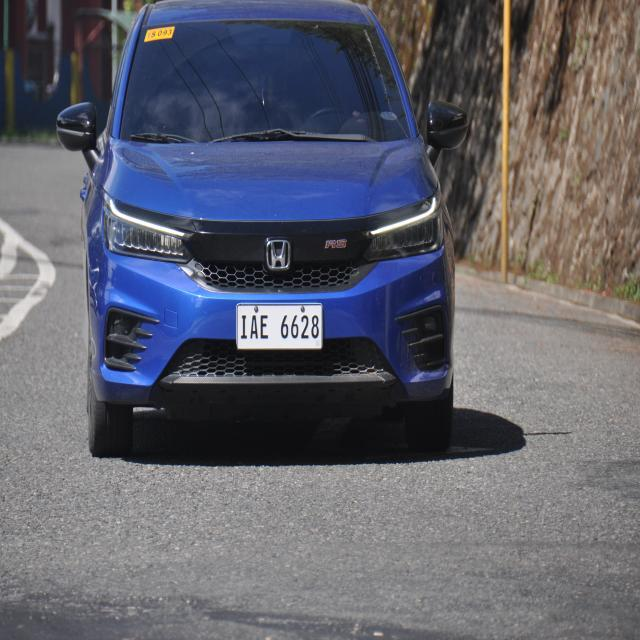LicensePlate: (225, 298, 331, 355)
